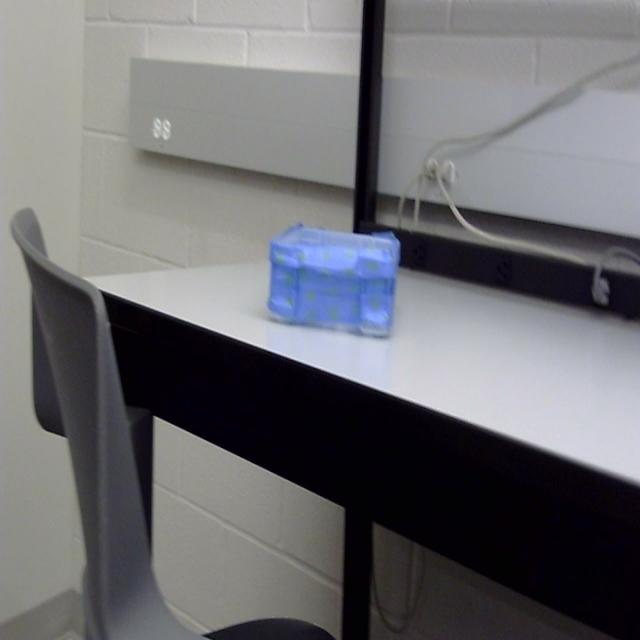bucket: (266, 218, 402, 341)
